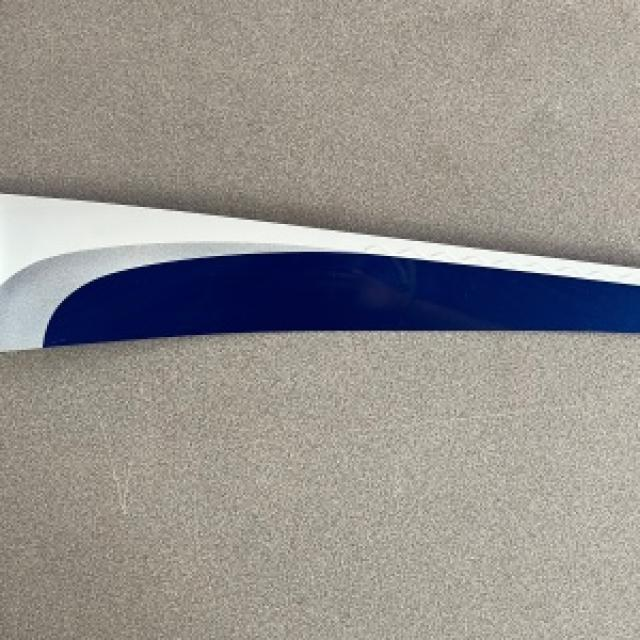healthy: (0, 331, 638, 638)
